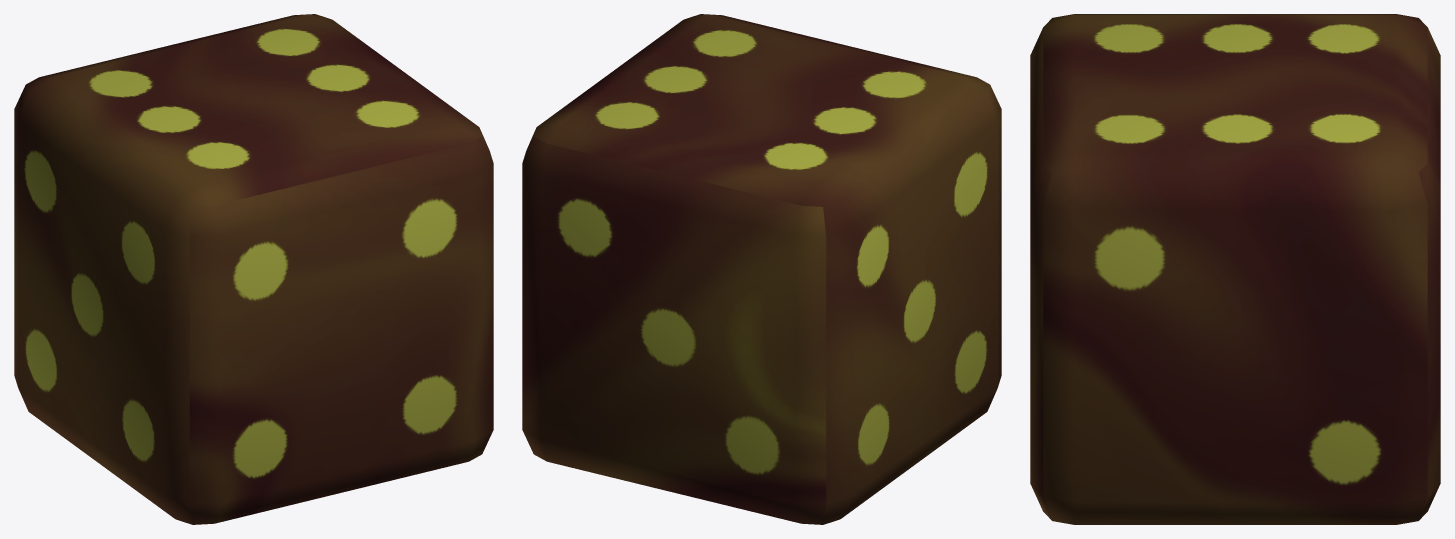
File: move_dice.glb
The picture shows the model from 3 angles, left to right: view 1: azimuth 30°, elevation 25°; view 2: azimuth 150°, elevation 25°; view 3: azimuth 270°, elevation 25°; orthographic projection. The views are drawn at different scales.
Parts seen in each view (by area): view 1: Object_2; view 2: Object_2; view 3: Object_2.
Part boxes in pixels (box(x1,y1,x2,y2)): Object_2: box(14, 14, 493, 524); Object_2: box(522, 14, 1001, 524); Object_2: box(1030, 14, 1440, 524).
Size of the model in its own units: 2 by 2 by 2.
Materials: 1 (1 with a texture image).
